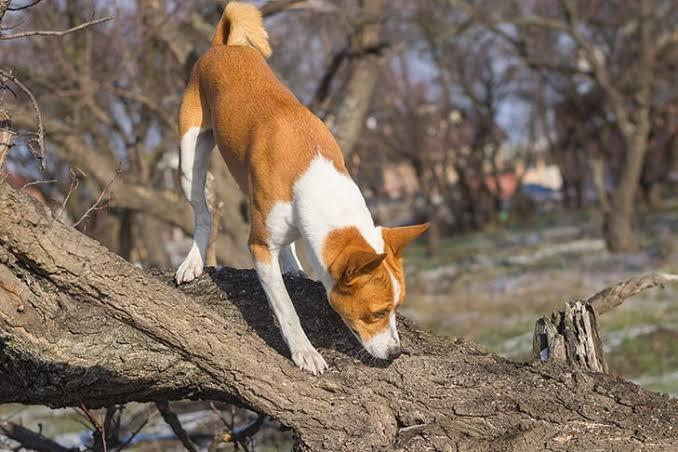adult_dog: (176, 1, 430, 375)
